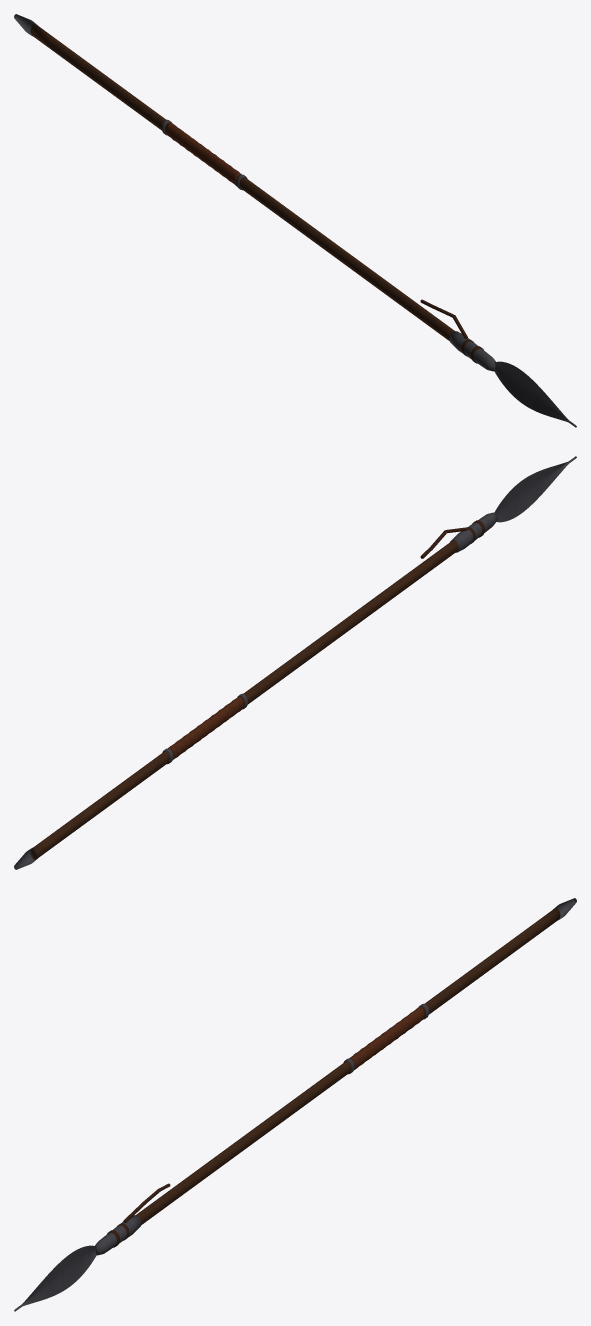
File: weapon_mourning_spear.glb
3 views of the same model, one above another, from view 1: azimuth 30°, elevation 25°; view 2: azimuth 150°, elevation 25°; view 3: azimuth 330°, elevation 25° (orthographic).
Visible parts, largest first — view 1: mourning_spear; view 2: mourning_spear; view 3: mourning_spear.
Part boxes in pixels (x1,y1,x2,y2): mourning_spear: (14,14,576,427); mourning_spear: (14,456,576,869); mourning_spear: (14,898,576,1311).
Size of the model in its own units: 0.0304 by 0.0826 by 2.4.
4 materials, 4 textured.
